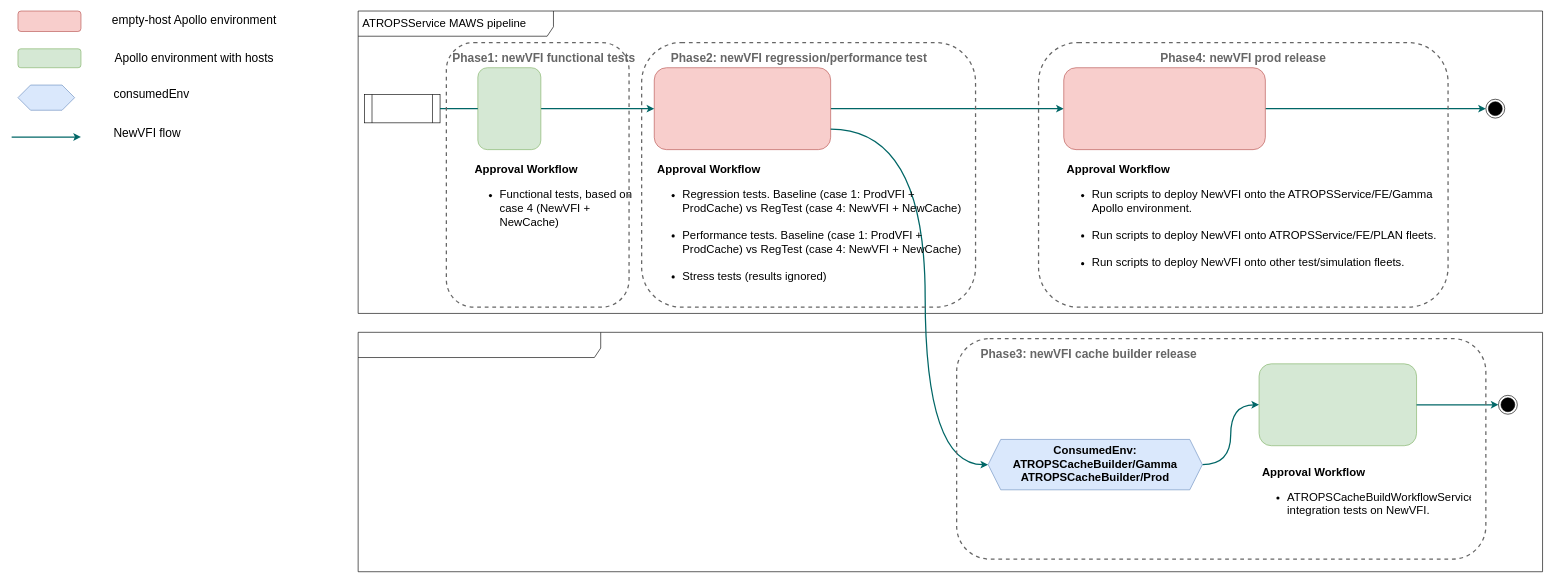
Image size: 1554x583. Some labels were removed from this diagram. Here are the shapes that lost their labels. From the top down, the box of each, then its label:
(364, 94, 440, 123): NewVFI
(358, 332, 1543, 572): ATROPSCacheBuildWorkflow MAWS pipeline
